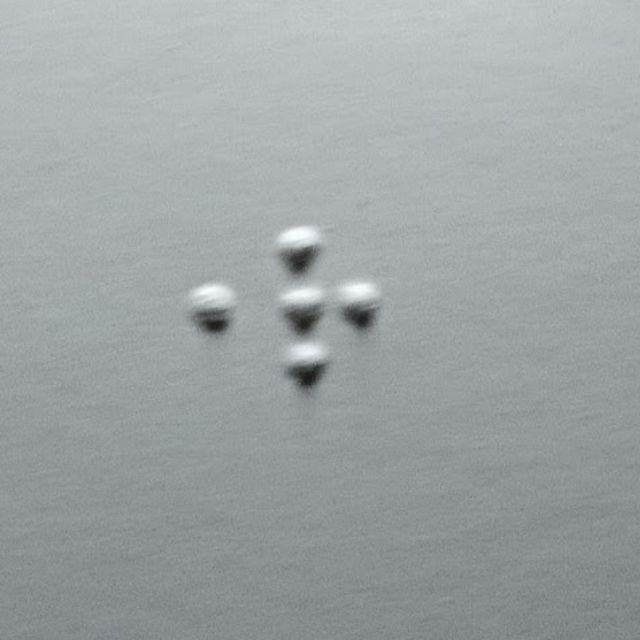dot_5: (134, 225, 239, 392)
roon: (278, 225, 384, 391)
